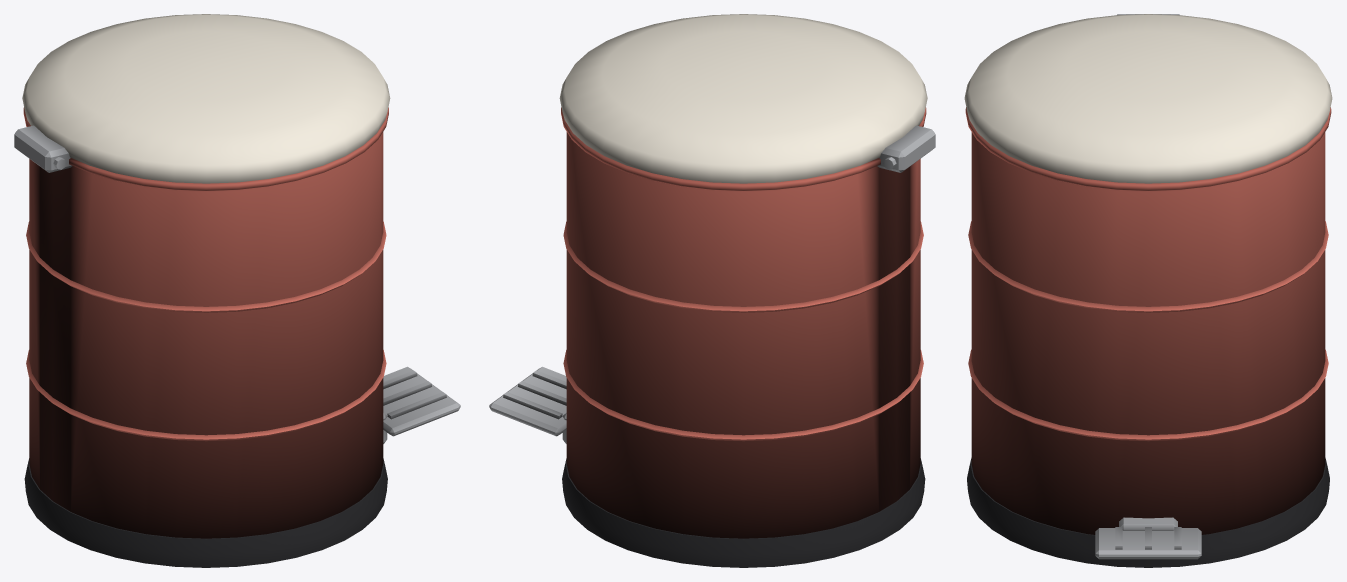
Rendered from junk_bin.glb.
The picture shows the model from 3 angles, left to right: view 1: azimuth 30°, elevation 25°; view 2: azimuth 150°, elevation 25°; view 3: azimuth 270°, elevation 25°; orthographic projection.
Parts seen in each view (by area): view 1: PART; view 2: PART; view 3: PART.
Part boxes in pixels (x1,y1,x2,y2): PART: [14, 14, 460, 567]; PART: [489, 14, 935, 567]; PART: [964, 14, 1332, 567].
Size of the model in its own units: 0.3978 by 0.401 by 0.312.
